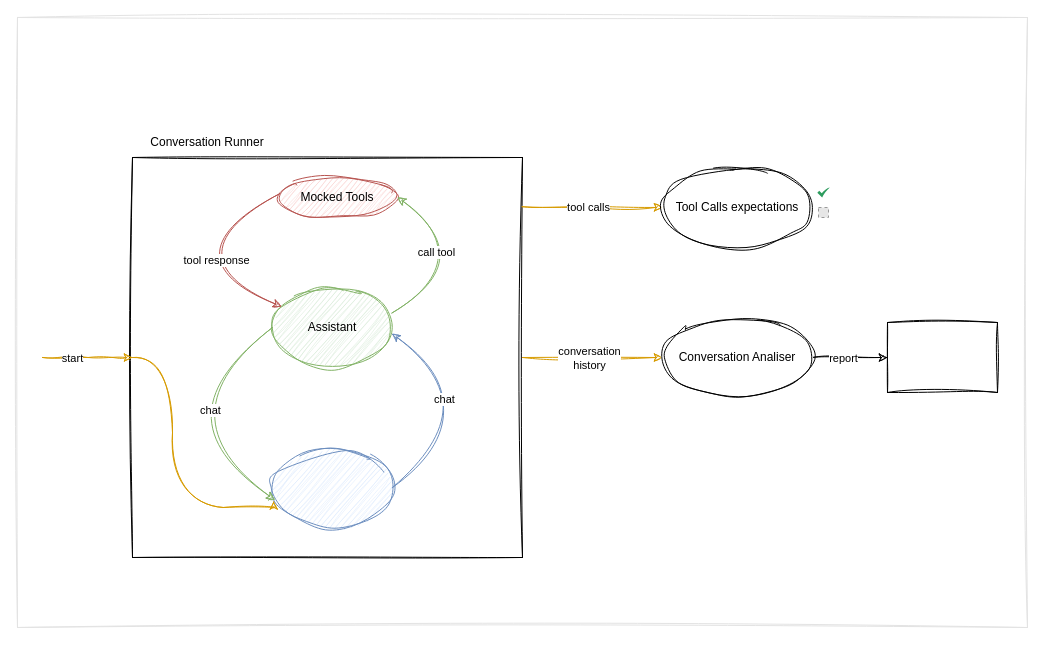
This 1045x645 diagram has some shape labels left out. Grey dashed boxes stand in for pictures. Each missing label, with the centre of its shape:
Test User: (332,487)
{ "score": 8, "feedback": "..." }: (942,357)
